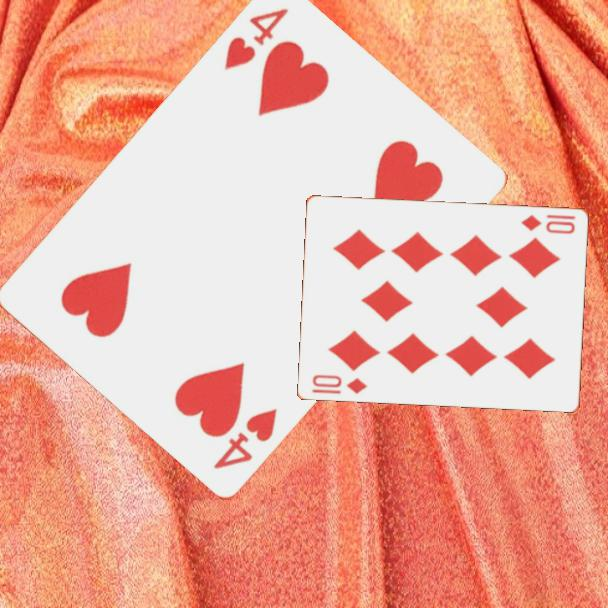d10: (518, 211, 578, 237), (309, 371, 370, 396)
h04: (220, 5, 292, 75), (209, 405, 281, 473)
